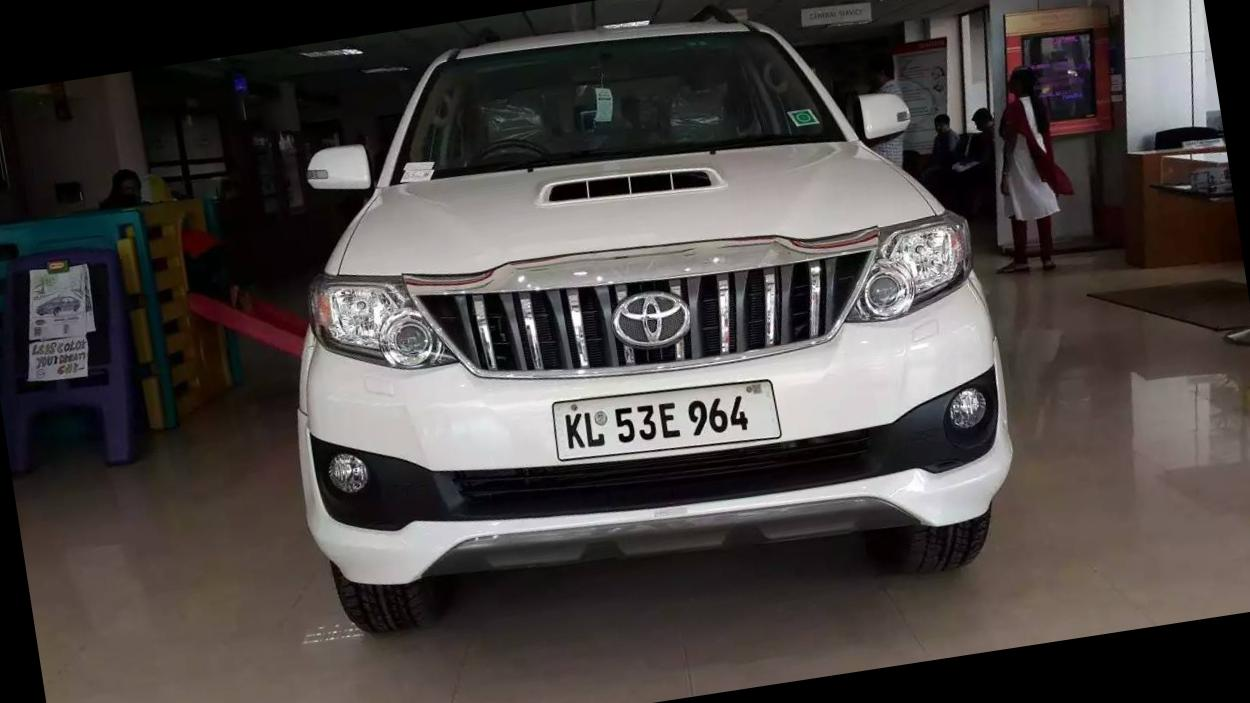plate: (539, 357, 794, 485)
